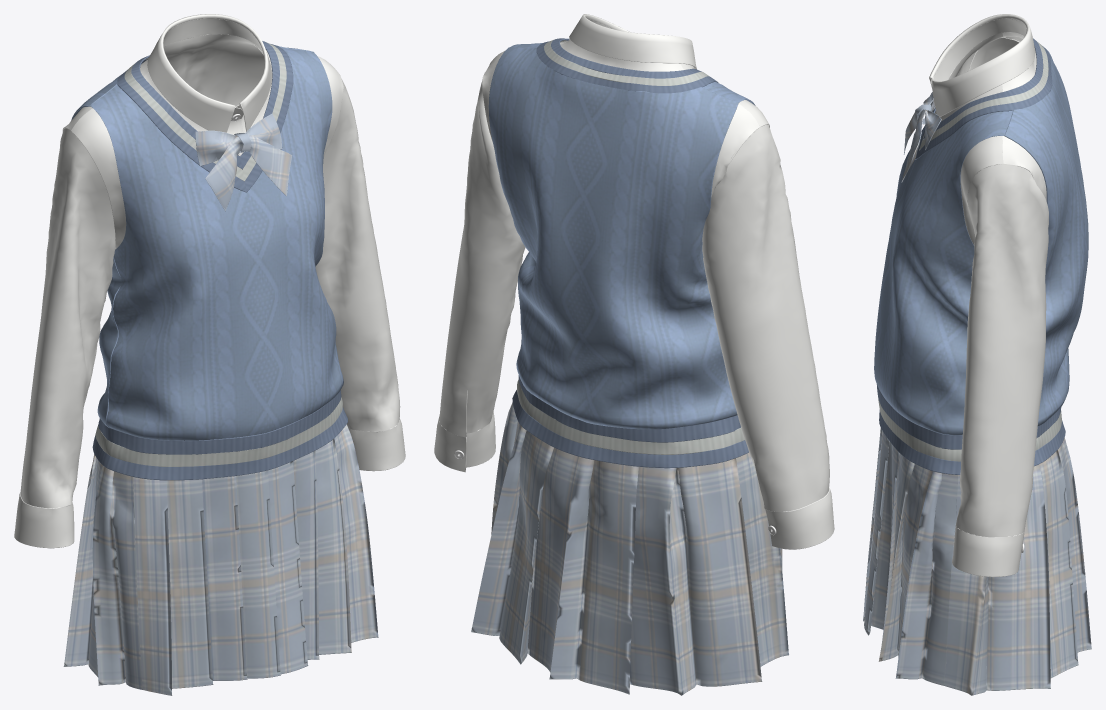
File: jk_school_uniform_4.glb
3 views of the same model, side by side, from view 1: azimuth 30°, elevation 25°; view 2: azimuth 150°, elevation 25°; view 3: azimuth 270°, elevation 25° (orthographic). The views are drawn at different scales.
Visible parts, largest first — view 1: Object_10, Object_3, Object_4, Object_5, Object_9, Object_2, Object_7, Object_6, Object_11, Object_8; view 2: Object_8, Object_9, Object_5, Object_4, Object_10, Object_2, Object_7; view 3: Object_4, Object_10, Object_9, Object_3, Object_8, Object_2, Object_5, Object_6, Object_7, Object_11.
Boxes of the visible parts, x1=… form: Object_10: x1=90, y1=47, x2=347, y2=480; Object_3: x1=133, y1=424, x2=378, y2=695; Object_4: x1=14, y1=42, x2=405, y2=548; Object_5: x1=20, y1=18, x2=279, y2=508; Object_9: x1=63, y1=454, x2=142, y2=689; Object_2: x1=117, y1=14, x2=293, y2=192; Object_7: x1=62, y1=34, x2=326, y2=132; Object_6: x1=195, y1=44, x2=343, y2=165; Object_11: x1=71, y1=71, x2=207, y2=249; Object_8: x1=71, y1=46, x2=313, y2=427; Object_8: x1=488, y1=47, x2=738, y2=429; Object_9: x1=471, y1=402, x2=788, y2=695; Object_5: x1=551, y1=19, x2=829, y2=511; Object_4: x1=434, y1=39, x2=834, y2=549; Object_10: x1=510, y1=43, x2=755, y2=468; Object_2: x1=536, y1=14, x2=718, y2=93; Object_7: x1=482, y1=39, x2=759, y2=241; Object_4: x1=901, y1=40, x2=1048, y2=576; Object_10: x1=874, y1=107, x2=1065, y2=474; Object_9: x1=944, y1=437, x2=1091, y2=695; Object_3: x1=863, y1=428, x2=958, y2=685; Object_8: x1=1004, y1=50, x2=1088, y2=425; Object_2: x1=915, y1=14, x2=1052, y2=159; Object_5: x1=923, y1=18, x2=1043, y2=139; Object_6: x1=915, y1=84, x2=1003, y2=245; Object_7: x1=1002, y1=31, x2=1046, y2=200; Object_11: x1=935, y1=33, x2=1003, y2=113.
Bounding box in the file's own units: 530 × 823 × 280.
Materials: 2 (1 with a texture image).
